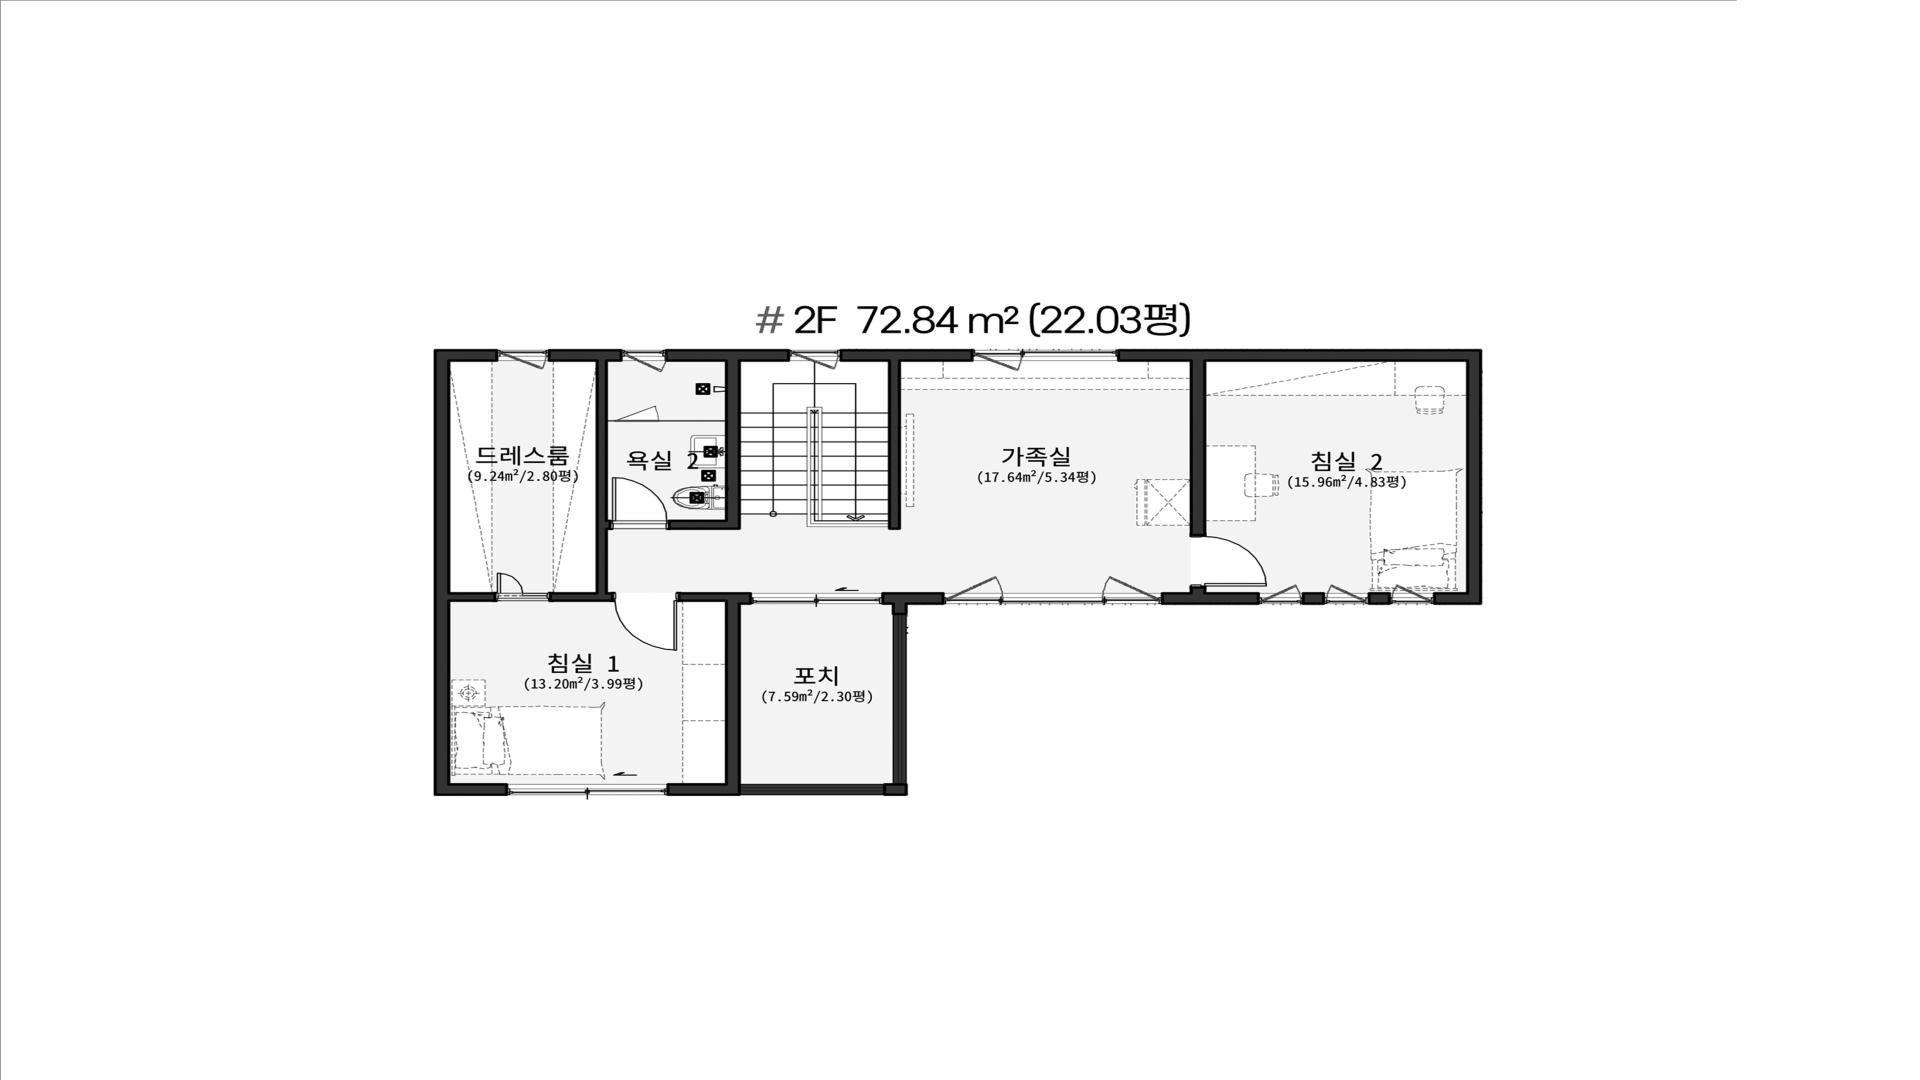door: (1189, 536, 1267, 587), (613, 592, 679, 651), (608, 477, 670, 530), (495, 572, 550, 602), (752, 593, 881, 604), (608, 405, 665, 422)
wall: (434, 362, 450, 796), (1117, 349, 1466, 362), (1466, 349, 1482, 592), (725, 605, 741, 783), (1190, 362, 1206, 535), (596, 362, 608, 592), (725, 362, 741, 520), (888, 362, 901, 530), (840, 349, 974, 362), (665, 349, 790, 362), (1161, 592, 1260, 605), (666, 783, 741, 796), (548, 349, 623, 362), (679, 592, 752, 605), (434, 349, 498, 362), (451, 783, 508, 796), (670, 520, 741, 530), (1433, 592, 1482, 605), (550, 592, 613, 602), (908, 592, 945, 605), (450, 592, 496, 602), (892, 592, 908, 615), (883, 783, 908, 796), (1367, 592, 1391, 605), (1302, 592, 1325, 605), (881, 592, 892, 605), (665, 420, 725, 422), (1190, 587, 1206, 592)
window: (945, 574, 1161, 604), (974, 349, 1117, 372), (893, 615, 907, 783), (508, 784, 666, 796), (741, 784, 883, 795), (498, 349, 547, 370), (790, 350, 839, 370), (623, 350, 665, 373), (1325, 584, 1367, 605), (1391, 584, 1433, 605), (1260, 584, 1302, 604)
